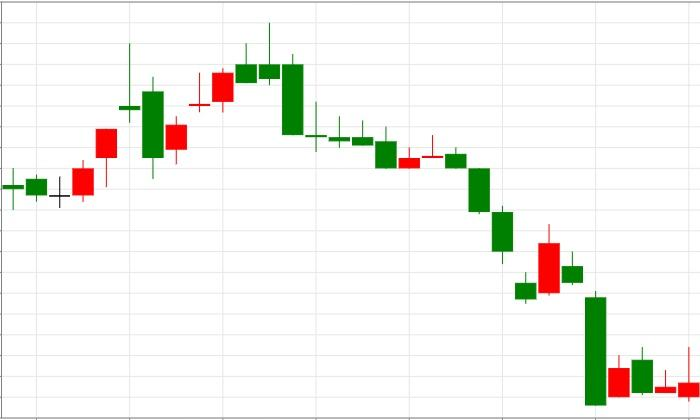three_black_crows_fall: (374, 126, 514, 265)
